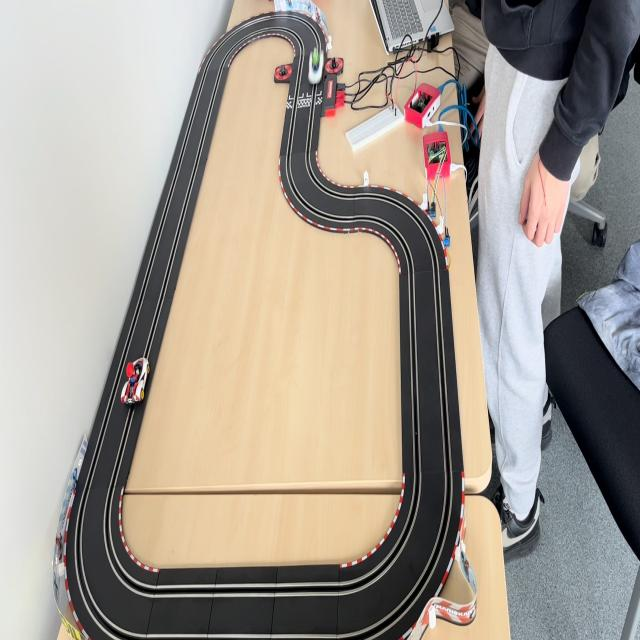mario: (119, 352, 152, 408)
yoshi: (308, 49, 324, 87)
